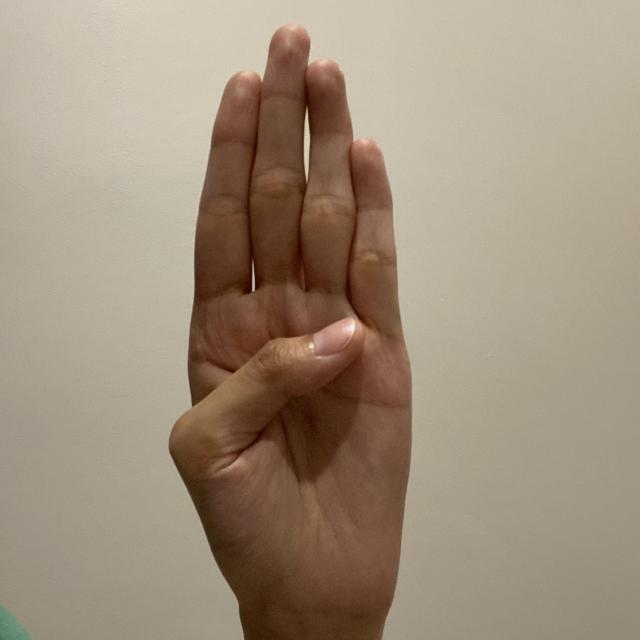B: (165, 17, 415, 630)
